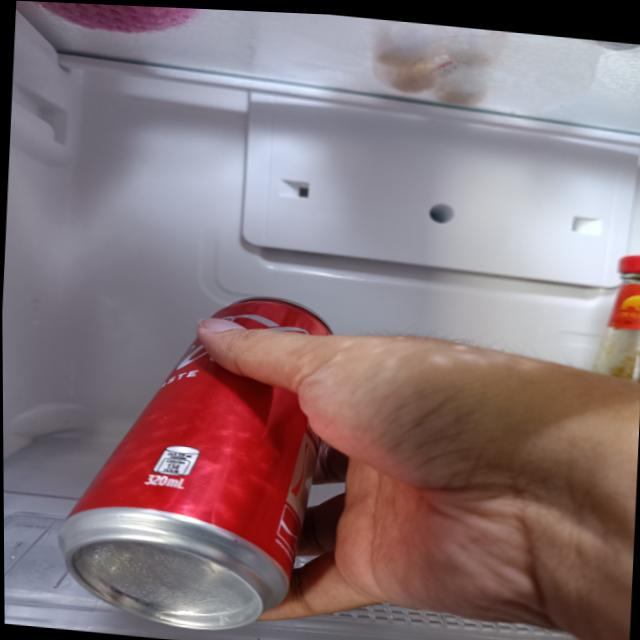coke: (55, 276, 340, 638)
